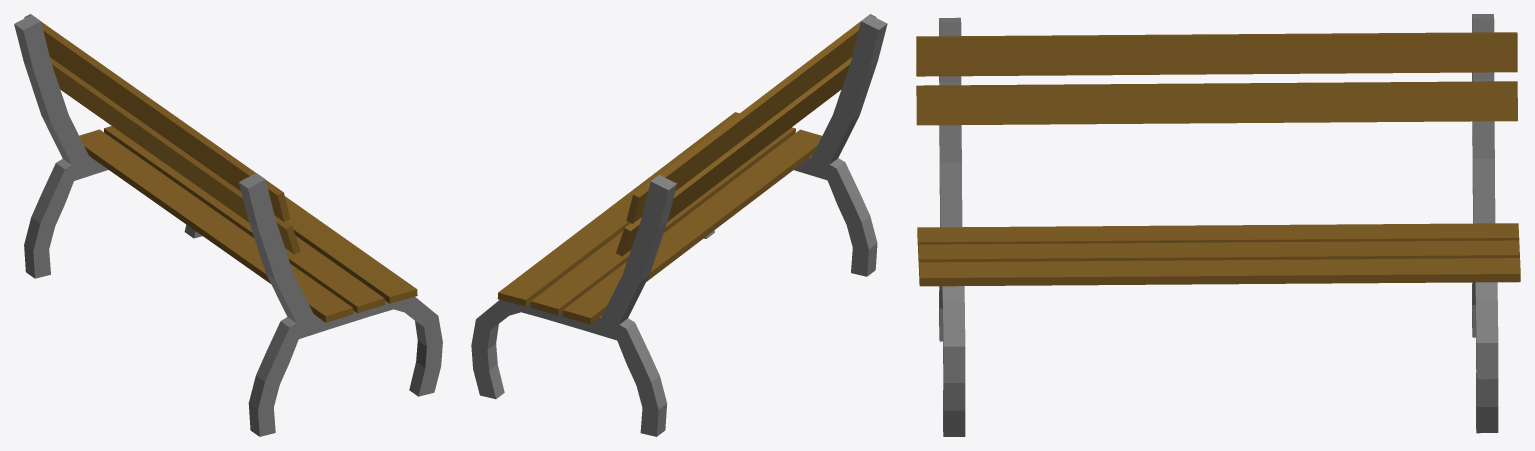
File: Bench.fbx
The picture shows the model from 3 angles, left to right: view 1: azimuth 30°, elevation 25°; view 2: azimuth 150°, elevation 25°; view 3: azimuth 270°, elevation 25°; orthographic projection. The views are drawn at different scales.
Visible parts, largest first — view 1: Bench; view 2: Bench; view 3: Bench.
Part boxes in pixels (bbox=[...]): Bench: bbox=[14, 14, 442, 436]; Bench: bbox=[471, 14, 887, 436]; Bench: bbox=[916, 14, 1520, 436].
Bounding box in the file's own units: 1071 × 1288 × 2257.
